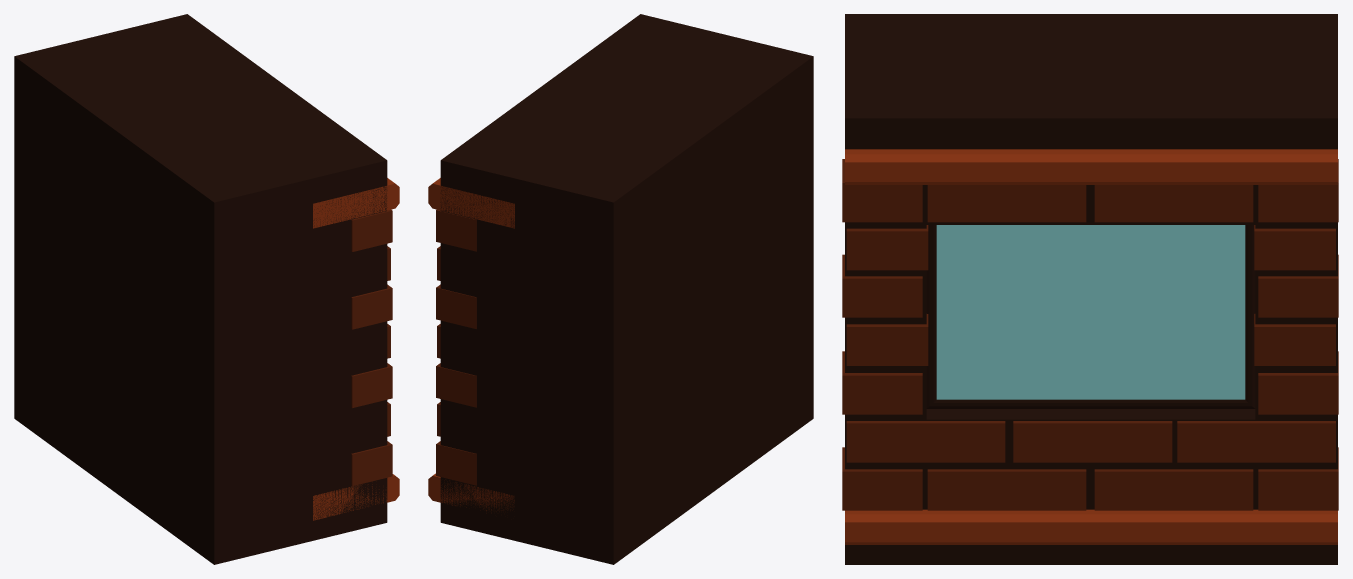
File: walls02.fbx
3 views of the same model, side by side, from view 1: azimuth 30°, elevation 25°; view 2: azimuth 150°, elevation 25°; view 3: azimuth 270°, elevation 25° (orthographic). The views are drawn at different scales.
Visible parts, largest first — view 1: Box018; view 2: Box018; view 3: Box018.
Boxes of the visible parts, x1,y1,x2,y2 form: Box018: [14, 14, 399, 564]; Box018: [428, 14, 813, 564]; Box018: [842, 14, 1338, 564].
Size of the model in its own units: 84.34 by 157 by 159.
